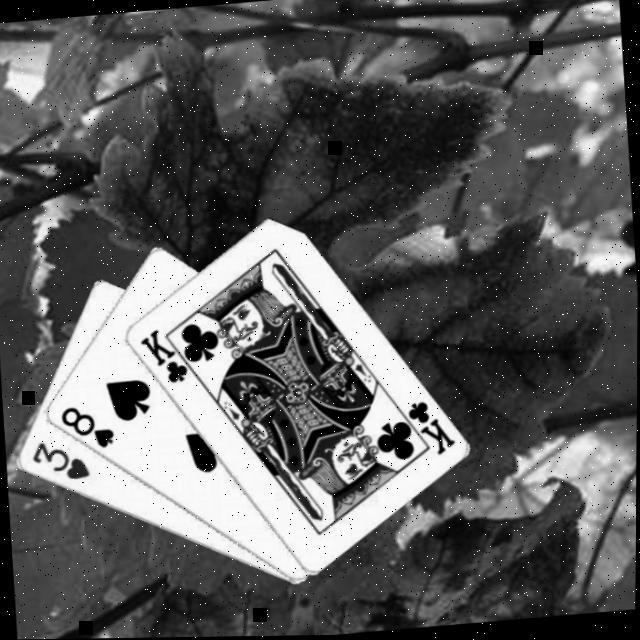3H: (27, 436, 92, 488)
8S: (55, 401, 116, 456)
KC: (135, 324, 201, 389), (390, 397, 456, 462)
